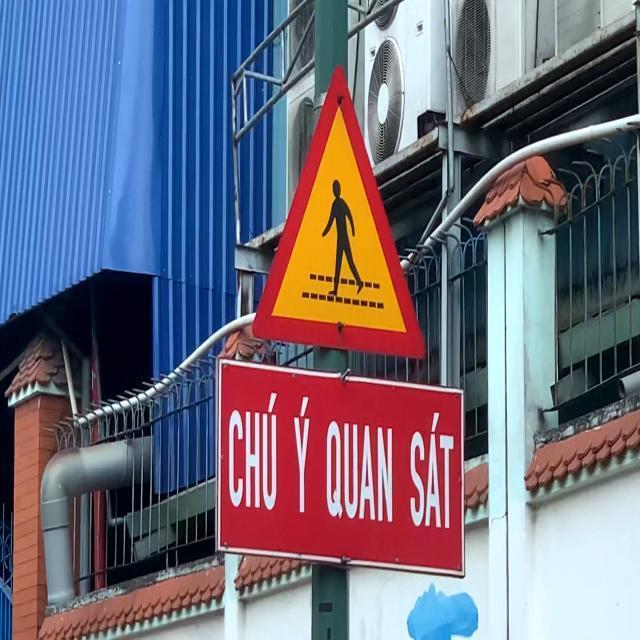224-duong-nguoi-di-bo-cat-ngang: (251, 71, 428, 359)
